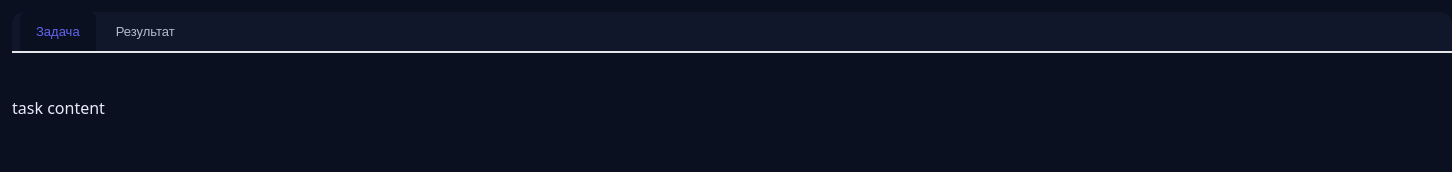
Test: InspectorTabs › retains selection across updates for the same entity and notifies agent-only callers on tab changes
Later steps or results of the test are not shown.
Click the tab "Результат".
click(145, 32)  # box left=100, top=12, right=191, bottom=53
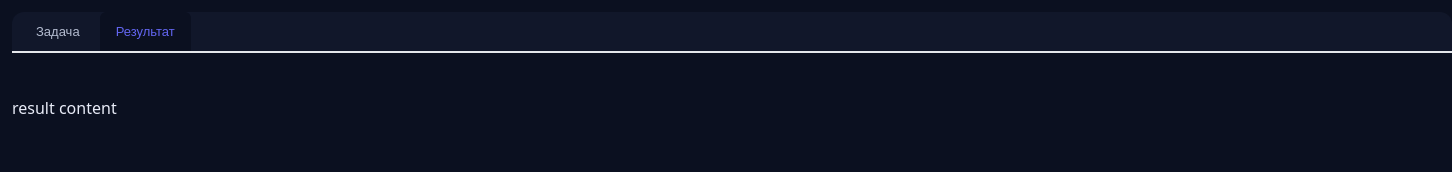
expect the tab "Результат" is selected: met, box left=100, top=12, right=191, bottom=53
